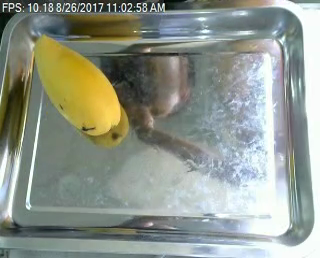Mango: (26, 30, 127, 142)
